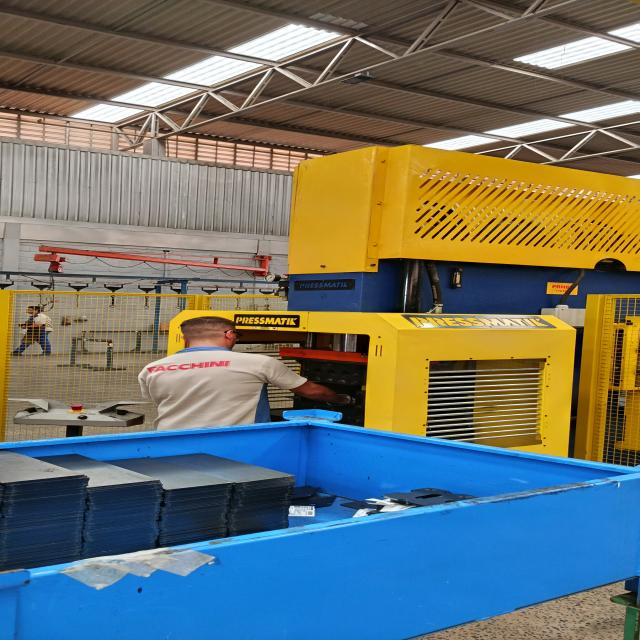oculos-epi: (228, 330, 243, 340)
